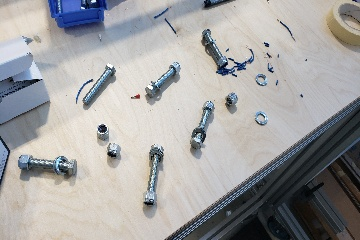Bolt: (80, 59, 121, 110)
FalseAssembly: (141, 57, 183, 101), (188, 98, 218, 154), (200, 24, 229, 68)
FinishedAssembly: (131, 140, 171, 214), (15, 147, 79, 184)
Nut: (92, 123, 114, 140), (223, 93, 241, 111), (103, 143, 124, 158)
Washer: (252, 110, 270, 126), (252, 73, 271, 87)
